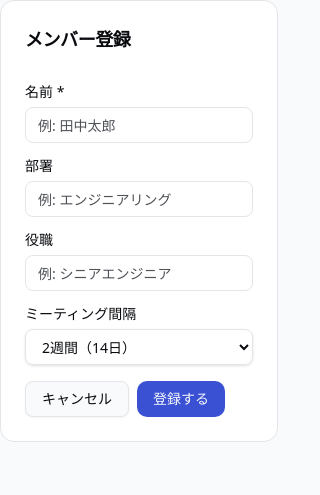
Test: MemberForm - 新規作成モード › エラー時にエラーメッセージとトーストが表示される
Type "テスト" into the field labelled "名前 *" at (139, 125), box top-left (25, 107), bottom-right (253, 143)
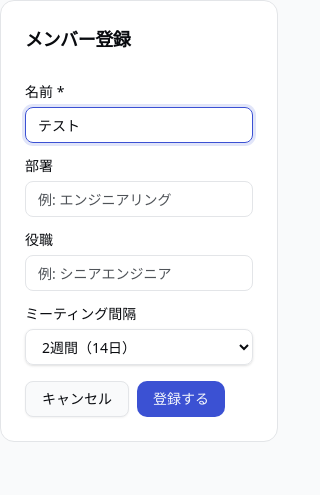
Click the button "登録する" at (181, 399), box top-left (137, 381), bottom-right (225, 417)
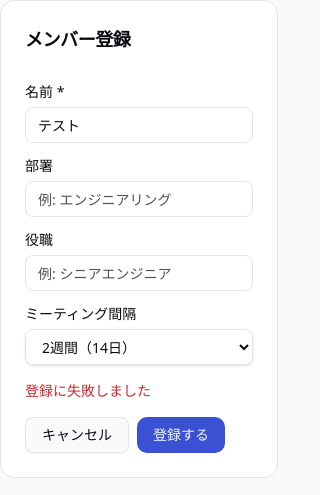
Expected: the text "登録に失敗しました" is shown, top-left (25, 381), bottom-right (151, 400)
